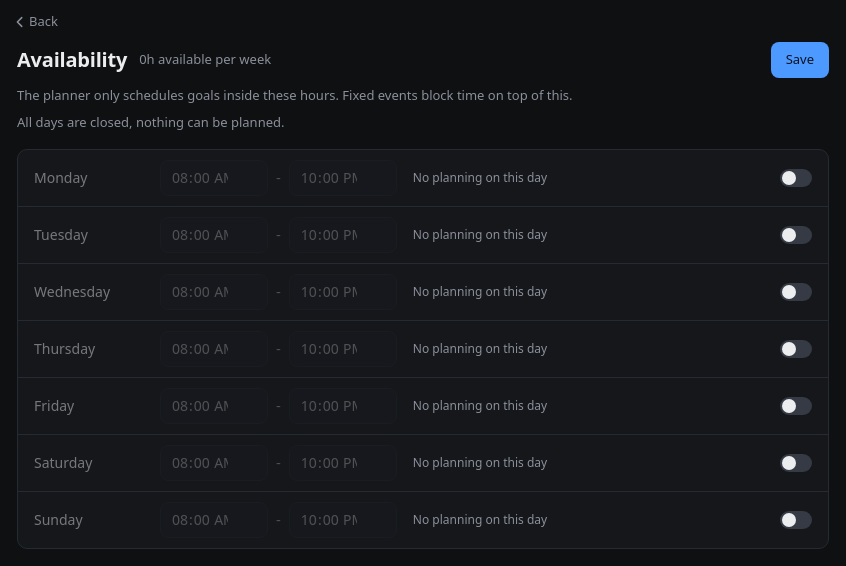
Test case: AvailabilityPage per-day mode › warns when every day is closed
expect the button "Save" is shown: met, box [771,42,829,78]
expect the text "All days are closed, nothing can be planned." is shown: met, box [17,113,284,131]
Click the switch named "Plan on Monday" at [796, 178], box [780,168,812,186]
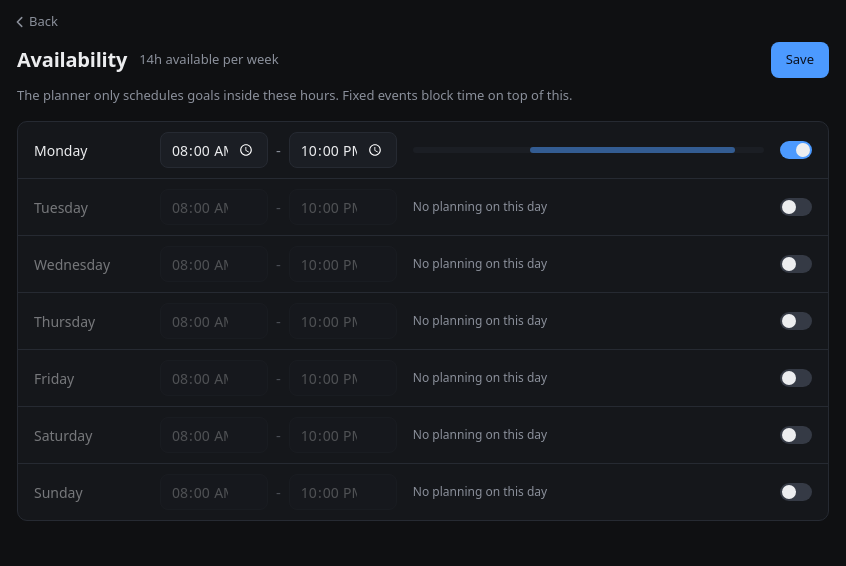
expect the text "All days are closed, nothing can be planned." is gone: met
